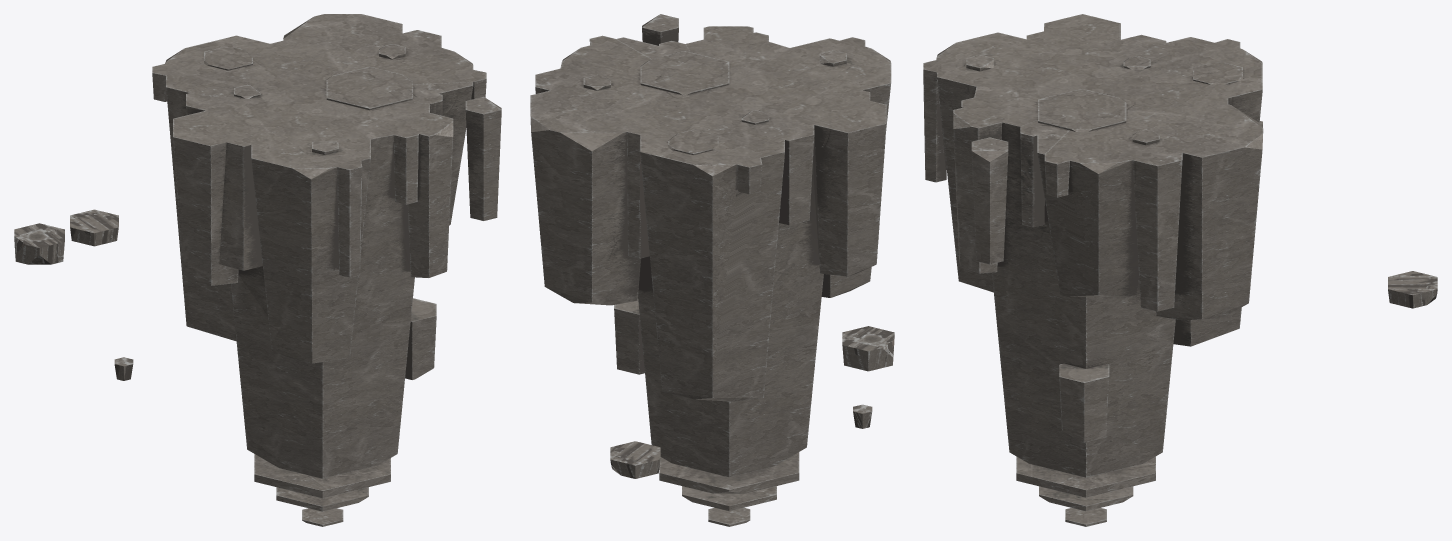
Rendered from Rock.fbx.
3 views of the same model, side by side, from view 1: azimuth 30°, elevation 25°; view 2: azimuth 150°, elevation 25°; view 3: azimuth 270°, elevation 25° (orthographic). The views are drawn at different scales.
Parts seen in each view (by area): view 1: RockFly; view 2: RockFly; view 3: RockFly.
Part boxes in pixels (x1,y1,x2,y2): RockFly: (14,14,501,526); RockFly: (530,14,894,526); RockFly: (923,14,1437,526).
Bounding box in the file's own units: 48.48 × 50.14 × 54.28.
1 material, 1 textured.
